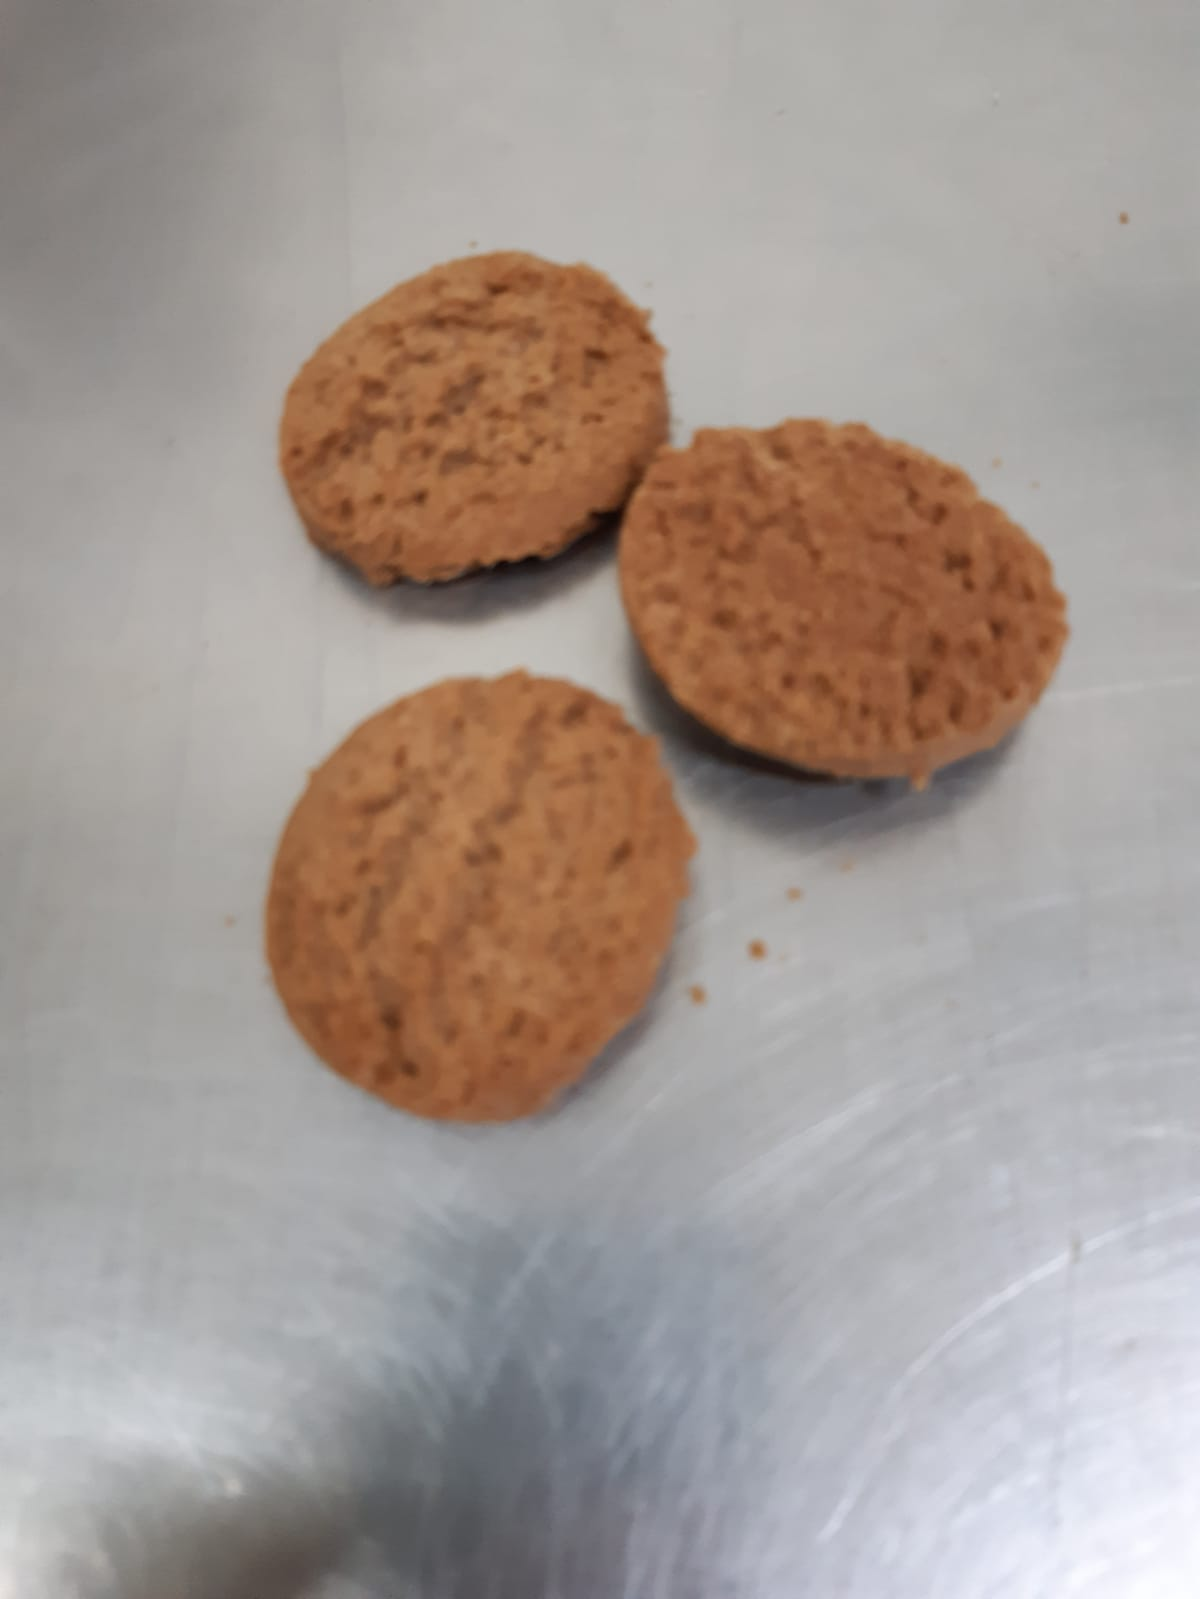Cookie3: (268, 677, 689, 1120), (621, 415, 1069, 776), (279, 249, 671, 585)
